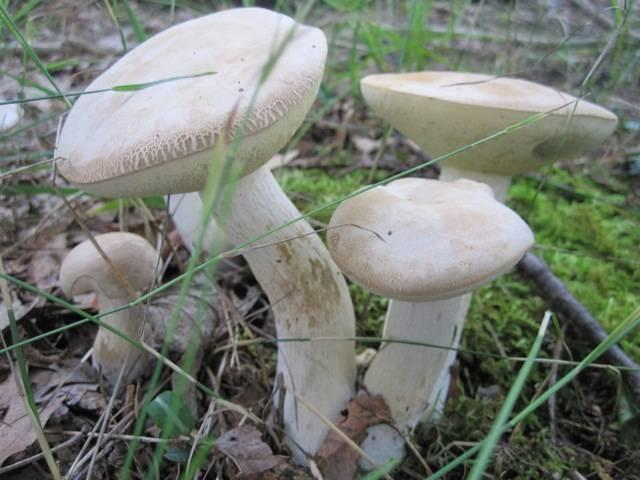Edible Mushroom: (51, 5, 358, 466), (325, 174, 535, 470), (359, 68, 618, 202), (56, 230, 224, 423)
